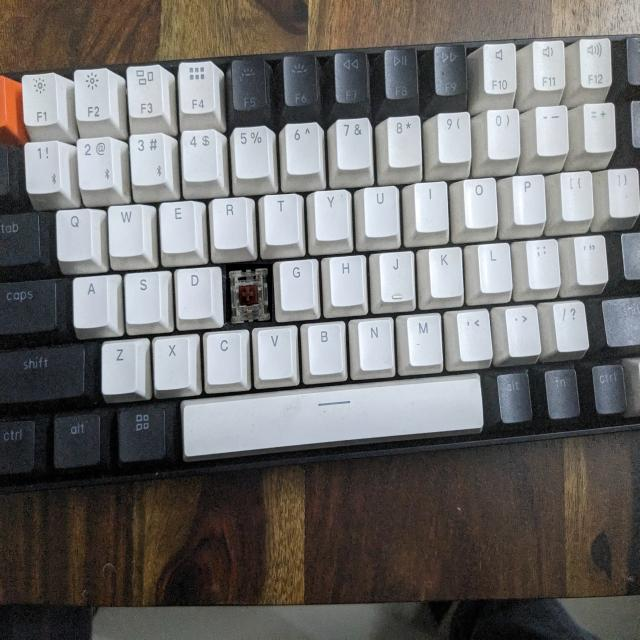C: (226, 264, 272, 322)
